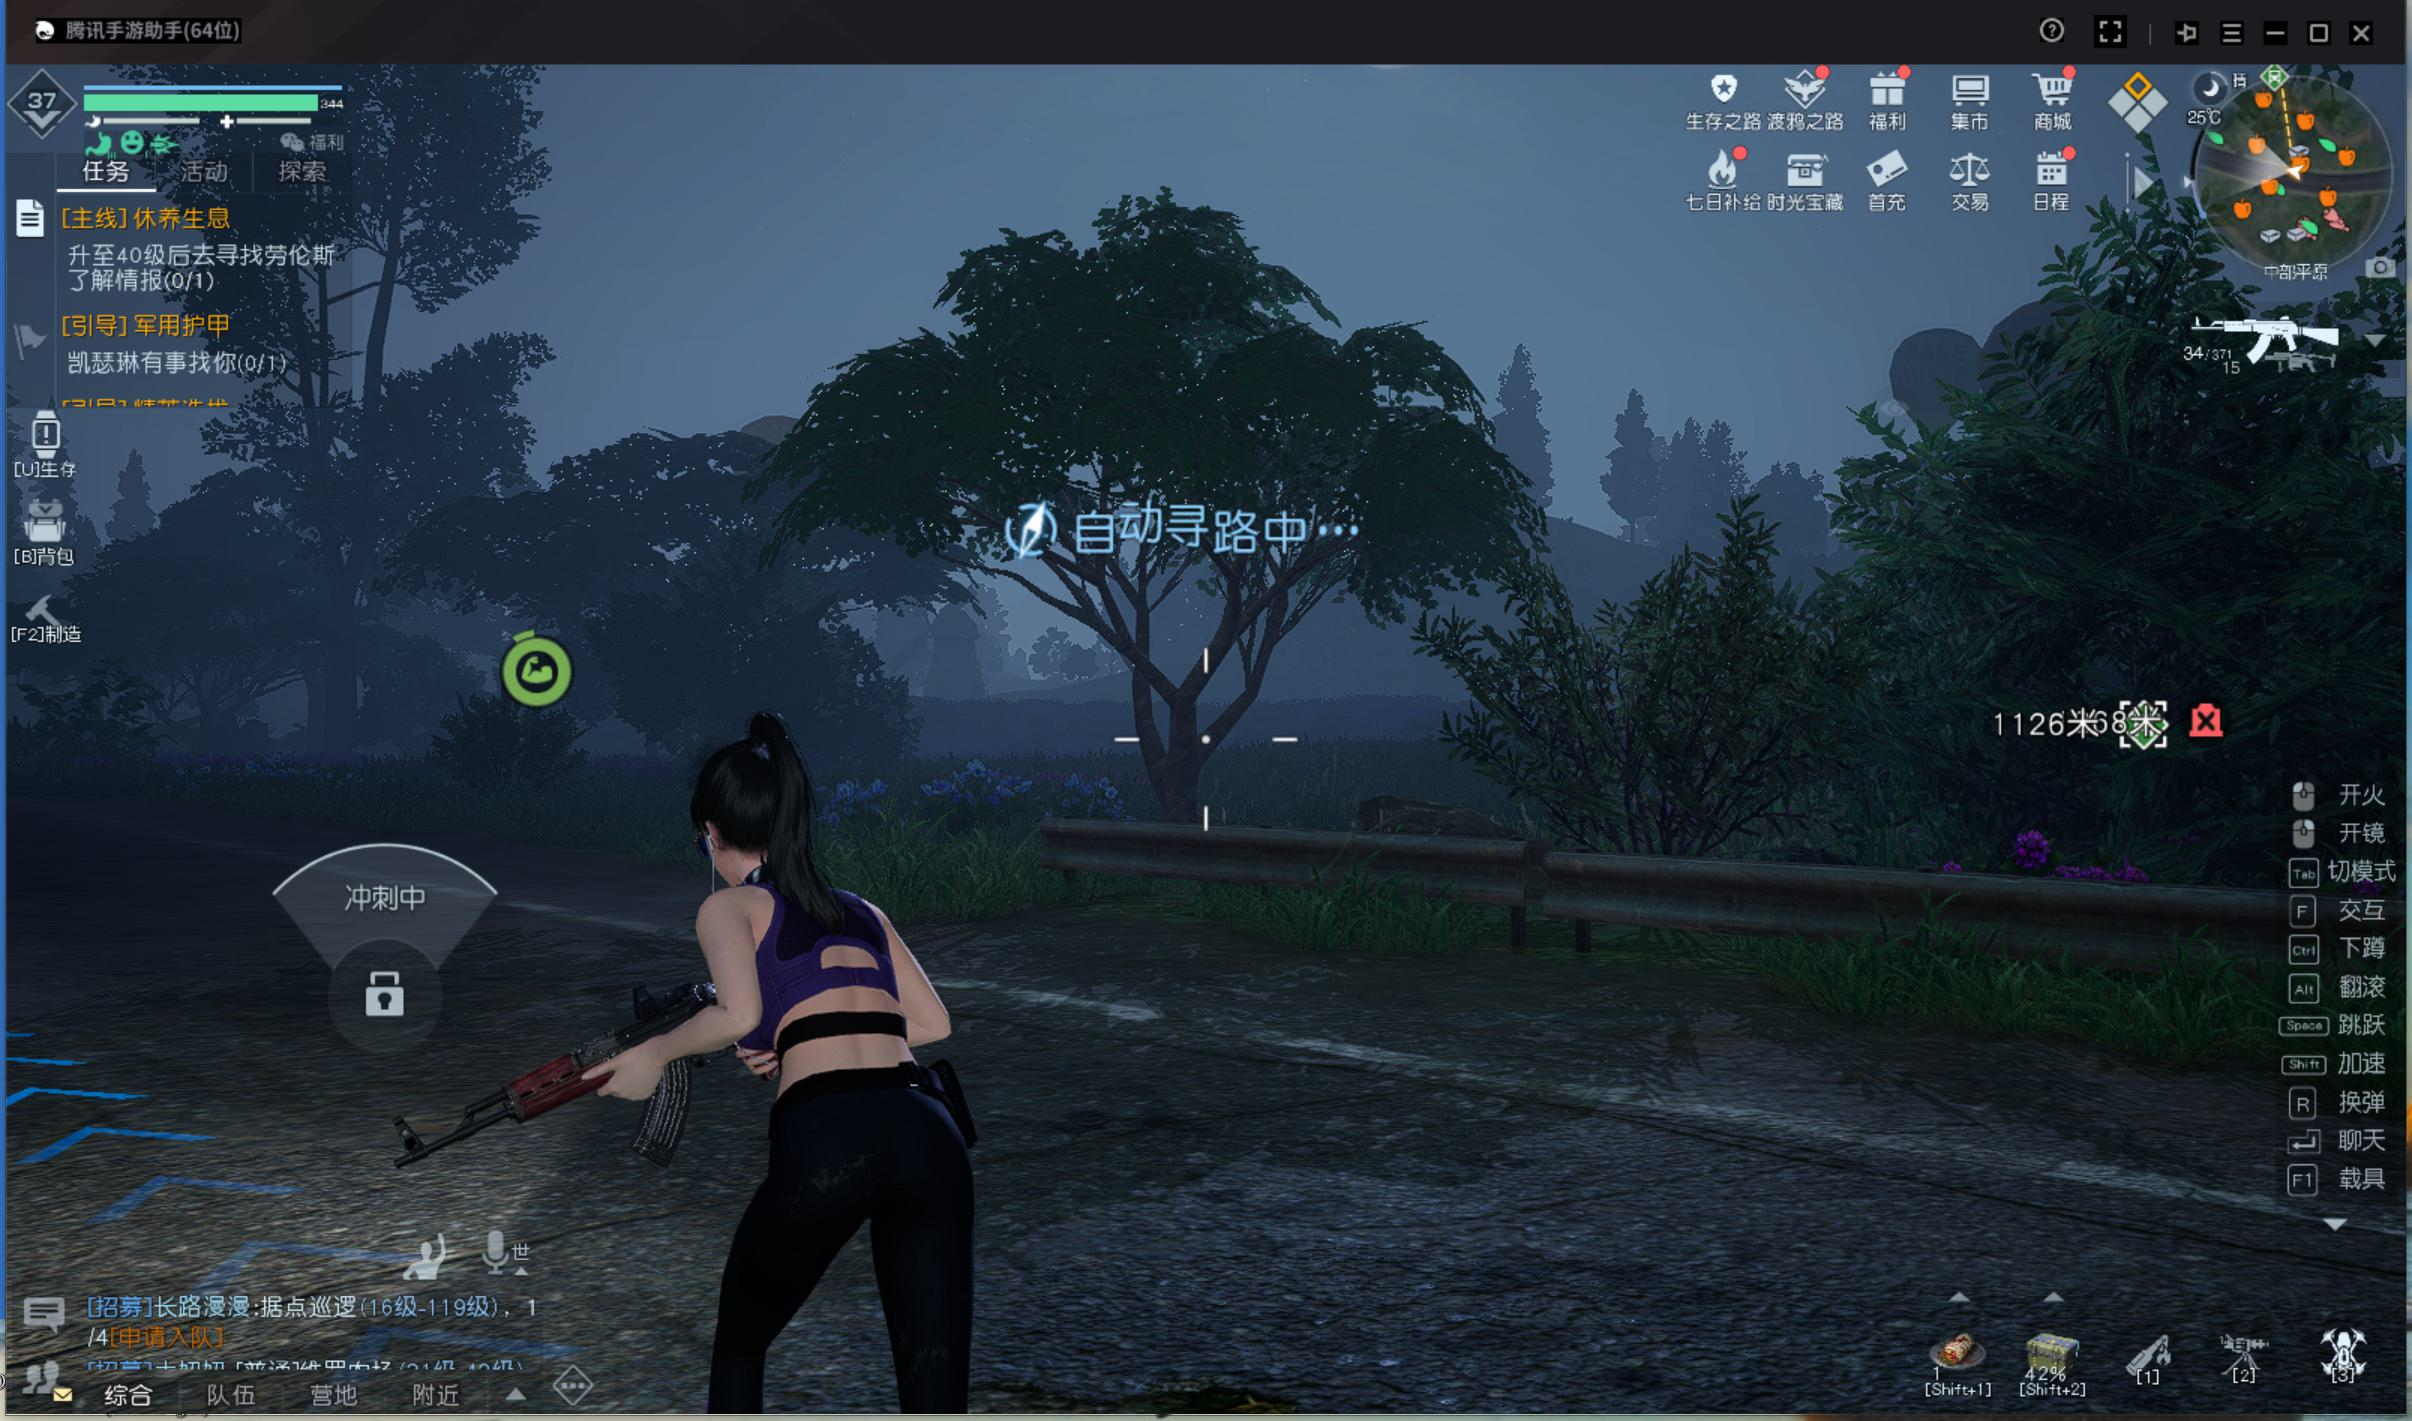tree: (1133, 668, 1221, 832), (316, 543, 369, 776)
